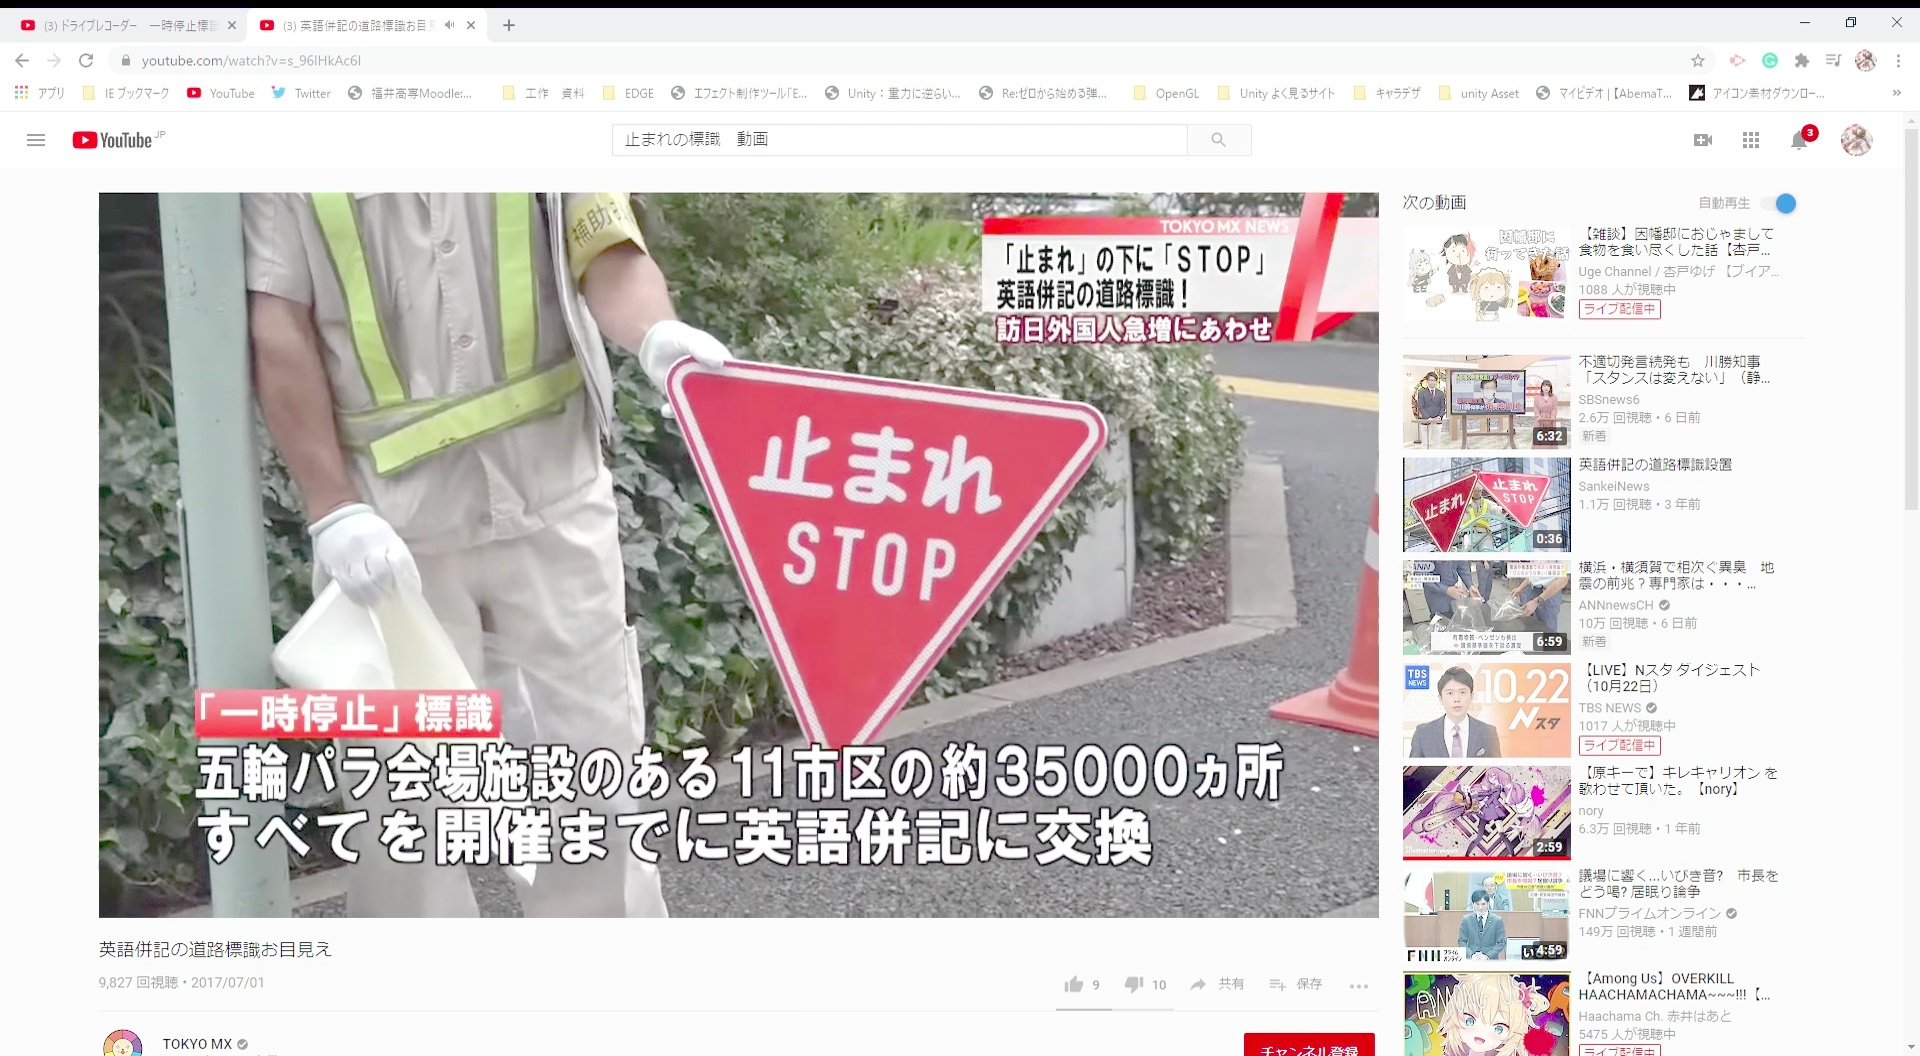Regulatory_sign_triangle: (646, 336, 1124, 808)
